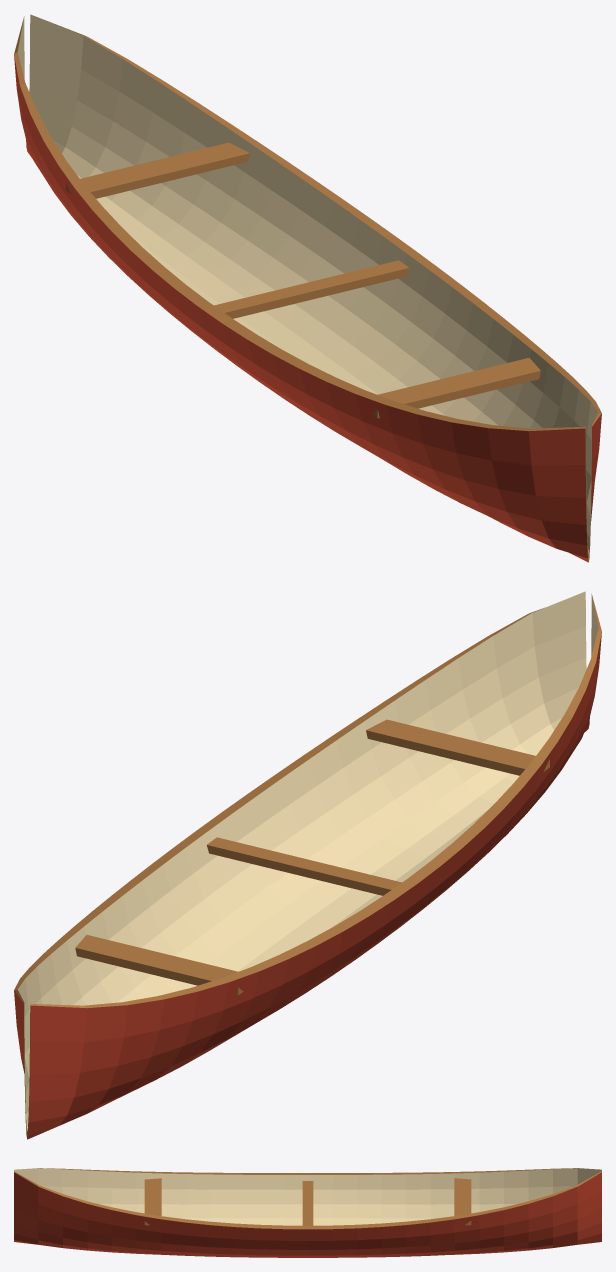
The model's file is canoe.glb.
3 renders of one model, top to bottom at view 1: azimuth 30°, elevation 25°; view 2: azimuth 150°, elevation 25°; view 3: azimuth 270°, elevation 25°, orthographic. The views are drawn at different scales.
Parts seen in each view (by area): view 1: canoe; view 2: canoe; view 3: canoe.
Boxes of the visible parts, x1,y1,x2,y2 form: canoe: [14, 14, 601, 562]; canoe: [14, 591, 601, 1139]; canoe: [14, 1168, 601, 1257].
Size of the model in its own units: 0.8608 by 0.5802 by 3.8.
